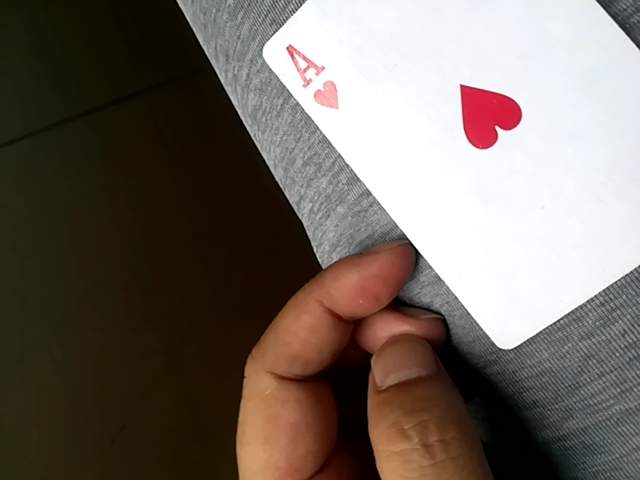hx a: (259, 0, 639, 349)
